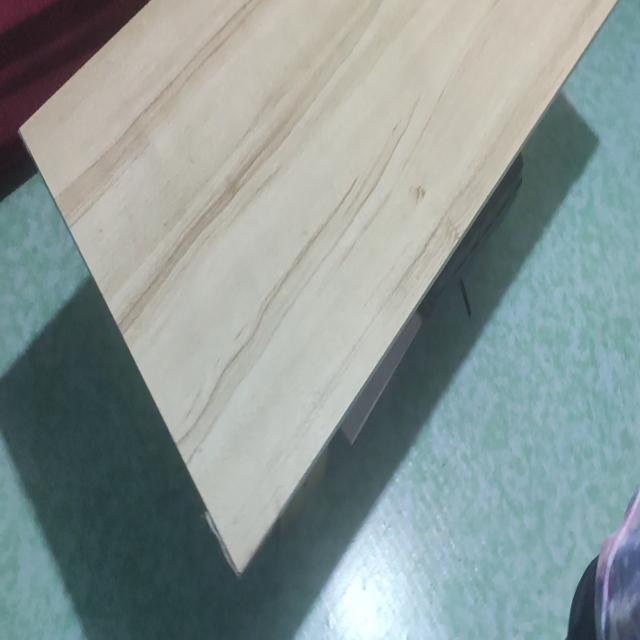table: (15, 0, 640, 566)
